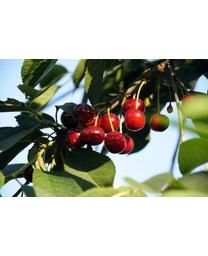cherry: (104, 131, 126, 154), (82, 125, 104, 146), (124, 108, 144, 131), (100, 112, 120, 133), (72, 103, 93, 123), (117, 135, 135, 155), (124, 98, 144, 115), (151, 113, 169, 131), (67, 131, 84, 148)
